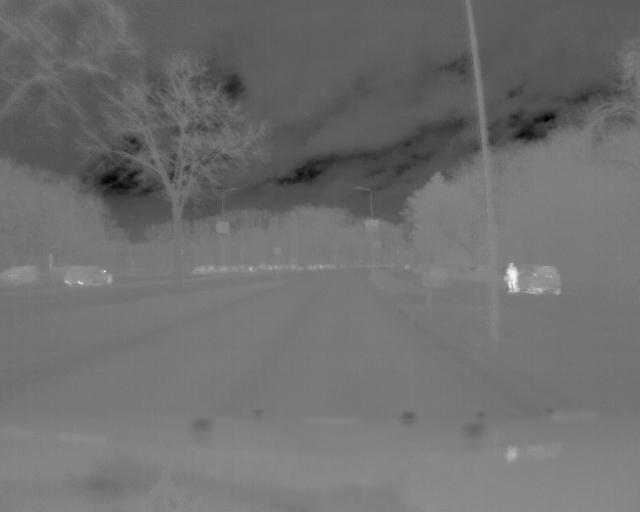car: (60, 262, 117, 289), (516, 262, 561, 295)
person: (503, 259, 522, 295)
